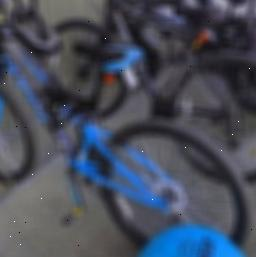algae: (132, 223, 256, 257)
